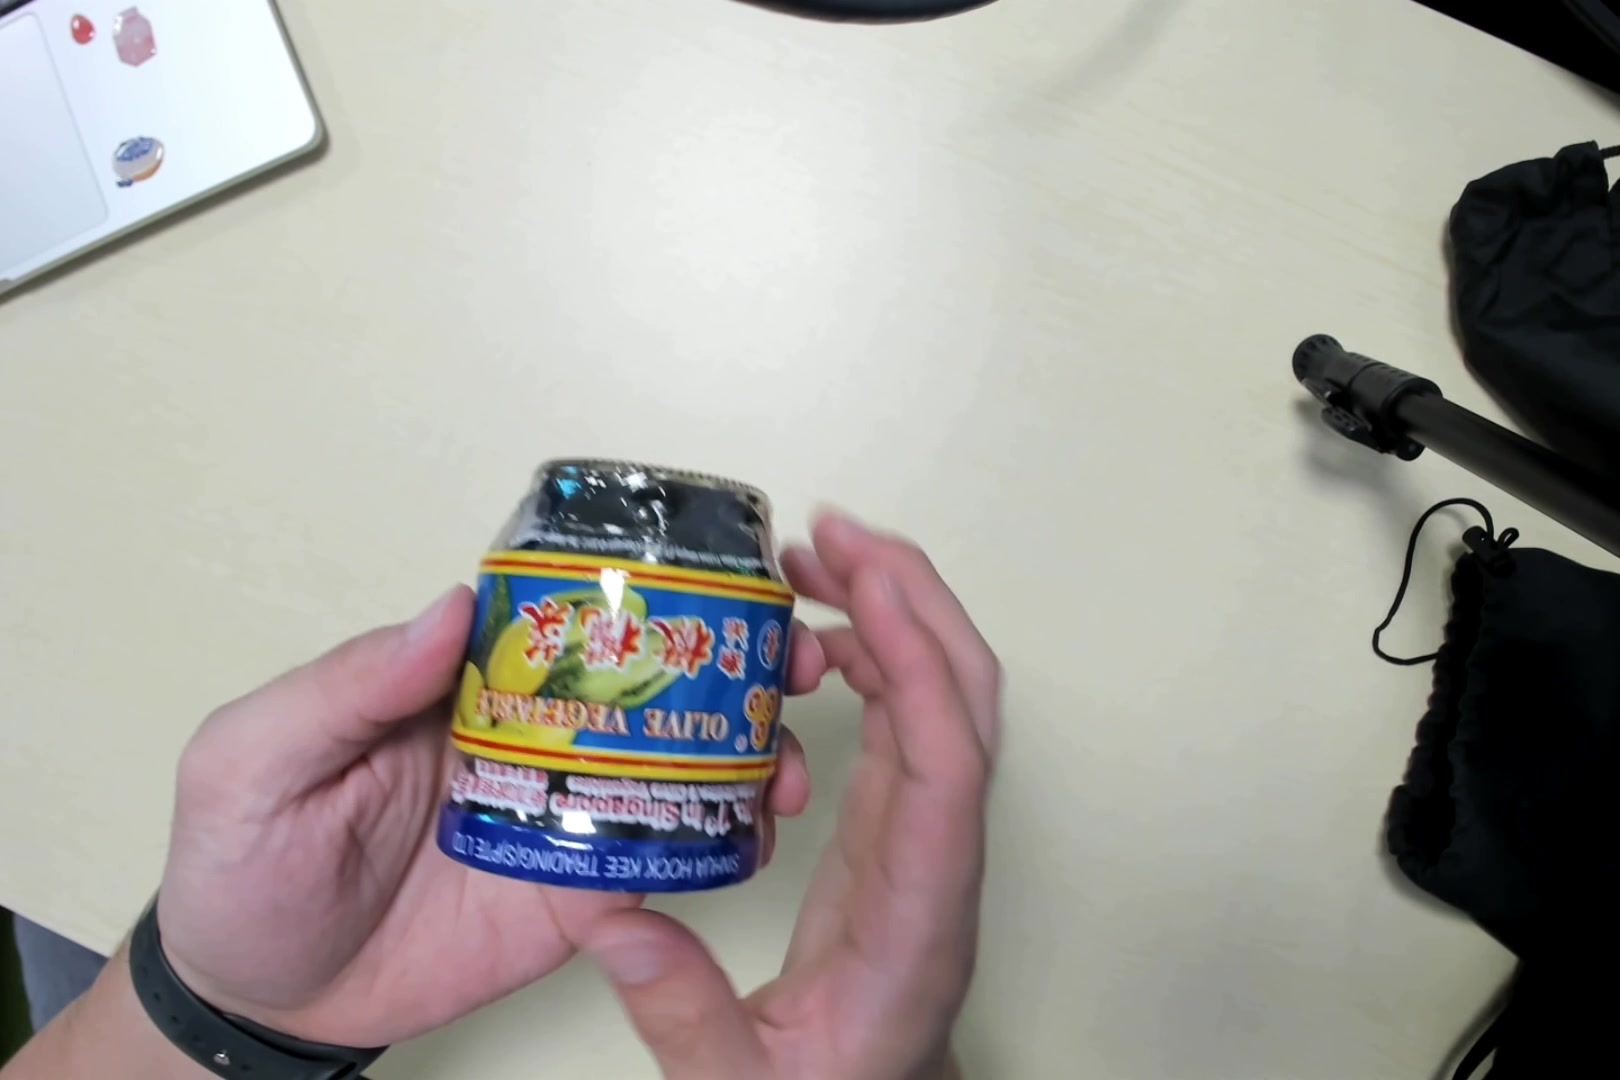CannedPickles_100-199g_NonHalal_NonHealthy: (430, 460, 802, 903)
